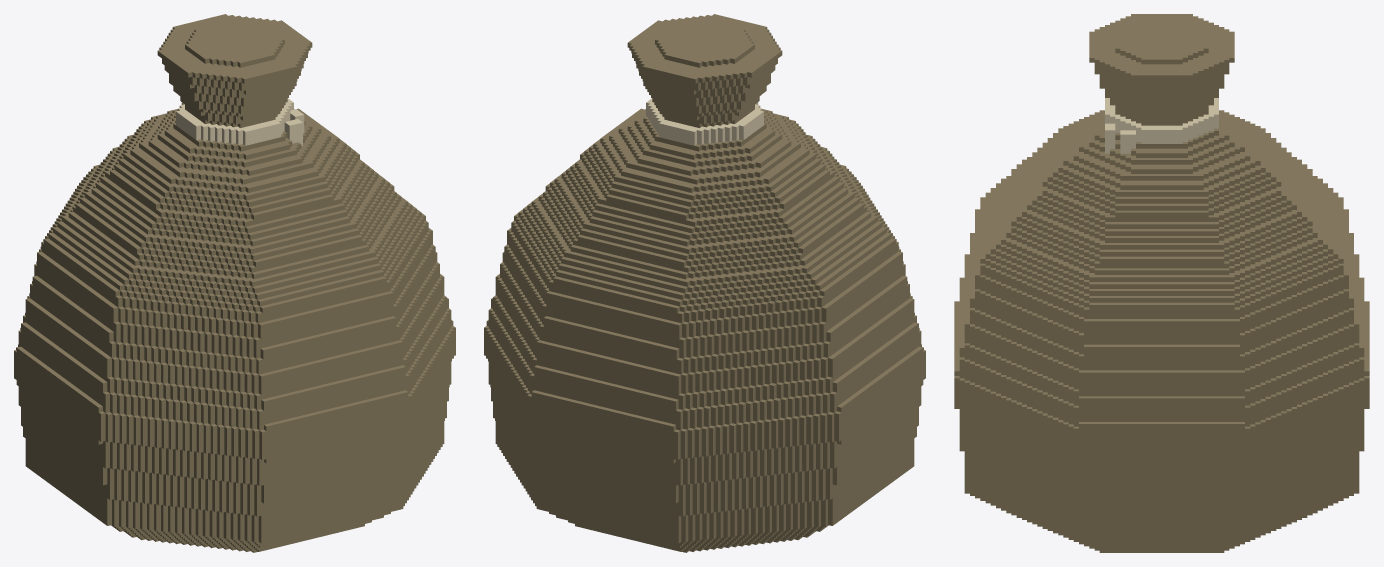
Rendered from swag_bag.glb.
3 renders of one model, left to right at view 1: azimuth 30°, elevation 25°; view 2: azimuth 150°, elevation 25°; view 3: azimuth 270°, elevation 25°, orthographic.
Visible parts, largest first — view 1: swag_bag:compound; view 2: swag_bag:compound; view 3: swag_bag:compound.
Boxes of the visible parts, left/top/right/bottom form: swag_bag:compound: left=14, top=14, right=455, bottom=552; swag_bag:compound: left=484, top=14, right=925, bottom=552; swag_bag:compound: left=954, top=14, right=1369, bottom=552.
Size of the model in its own units: 0.32 by 0.384 by 0.32.
